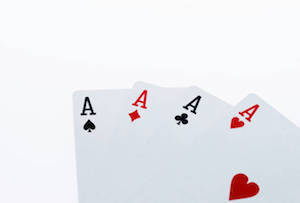AceOfClubs: (168, 79, 222, 190)
AceOfDiamonds: (124, 74, 168, 168)
AceOfHearts: (218, 89, 298, 203)
AceOfSpades: (67, 81, 119, 193)
